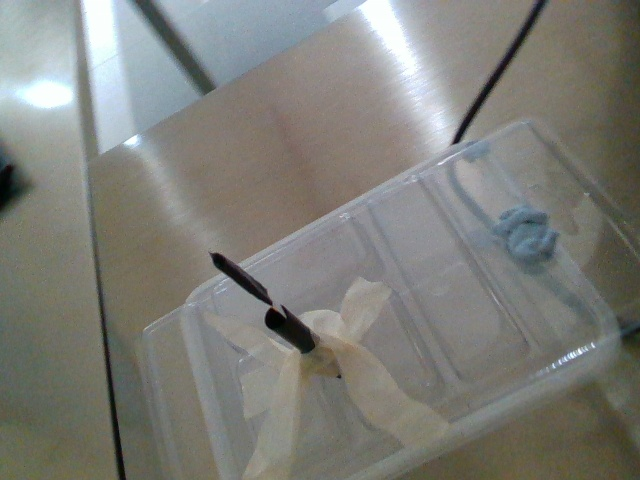test_strip: (208, 252, 286, 317)
